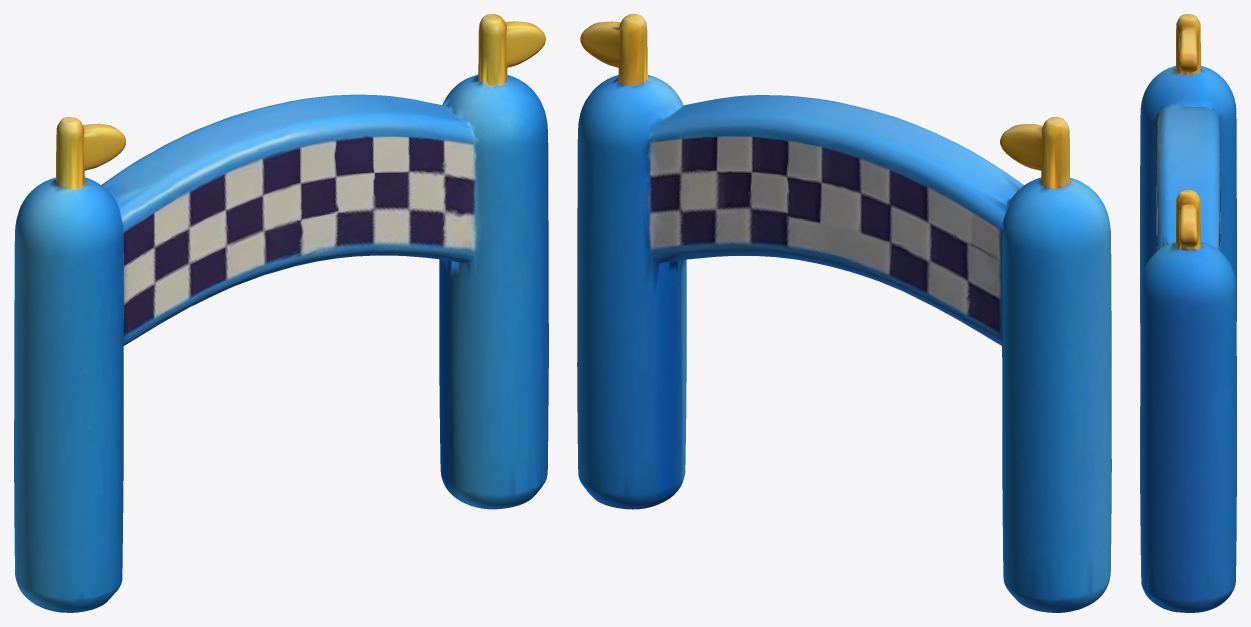
File: race-start-gate.glb
3 views of the same model, side by side, from view 1: azimuth 30°, elevation 25°; view 2: azimuth 150°, elevation 25°; view 3: azimuth 270°, elevation 25° (orthographic). The views are drawn at different scales.
Parts seen in each view (by area): view 1: tripo_node_6329d56c-376b-4a5e-b7cc-107eed7970a6; view 2: tripo_node_6329d56c-376b-4a5e-b7cc-107eed7970a6; view 3: tripo_node_6329d56c-376b-4a5e-b7cc-107eed7970a6.
Boxes of the visible parts, left/top/right/bottom form: tripo_node_6329d56c-376b-4a5e-b7cc-107eed7970a6: left=14, top=14, right=548, bottom=612; tripo_node_6329d56c-376b-4a5e-b7cc-107eed7970a6: left=577, top=14, right=1111, bottom=612; tripo_node_6329d56c-376b-4a5e-b7cc-107eed7970a6: left=1140, top=14, right=1236, bottom=612.
Size of the model in its own units: 1 by 0.8767 by 0.189.
1 material, 1 textured.
